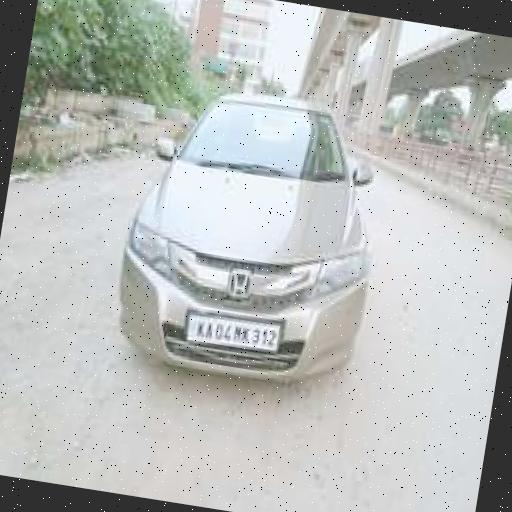license_plate`: (183, 309, 278, 348)
